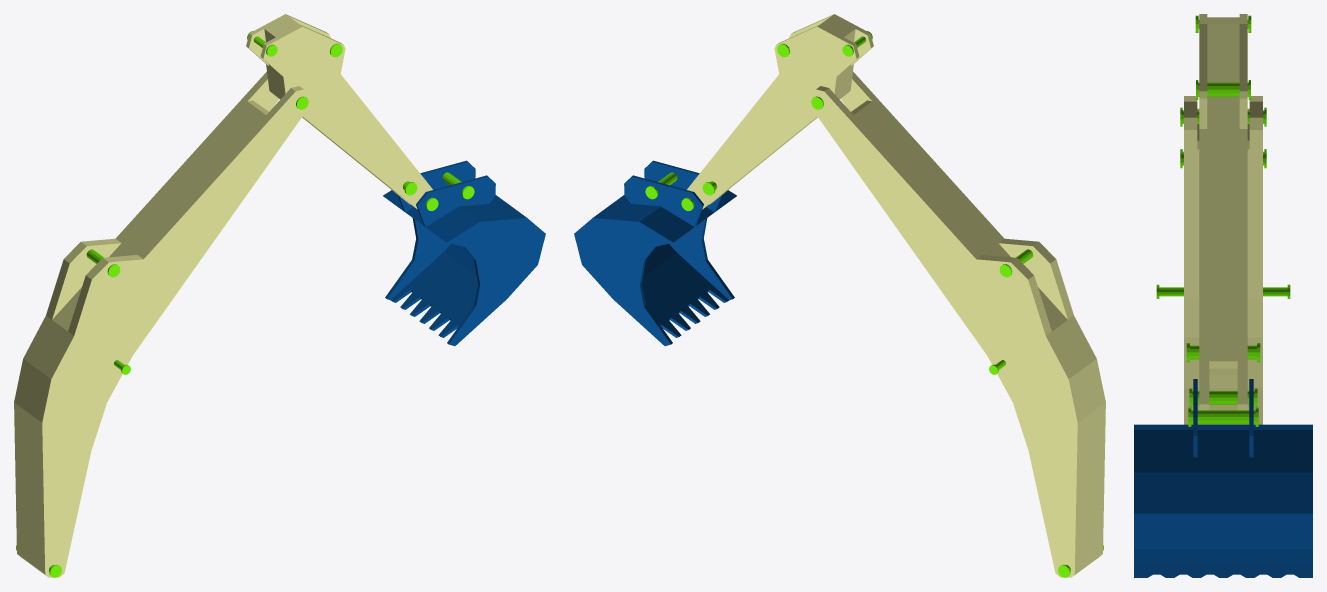
File: kovshi.fbx
3 views of the same model, side by side, from view 1: azimuth 30°, elevation 25°; view 2: azimuth 150°, elevation 25°; view 3: azimuth 270°, elevation 25° (orthographic). The views are drawn at different scales.
Visible parts, largest first — view 1: Mesh (2), Mesh, Mesh (3); view 2: Mesh (2), Mesh, Mesh (3); view 3: Mesh, Mesh (3), Mesh (2).
Boxes of the visible parts, x1,y1,x2,y2 form: Mesh (2): (14, 71, 311, 577); Mesh: (16, 160, 545, 577); Mesh (3): (246, 14, 432, 209); Mesh (2): (808, 71, 1105, 577); Mesh: (574, 160, 1103, 577); Mesh (3): (687, 14, 873, 209); Mesh: (1134, 379, 1312, 577); Mesh (3): (1186, 14, 1260, 410); Mesh (2): (1156, 96, 1290, 424).
Size of the model in its own units: 803 by 768 by 183.
